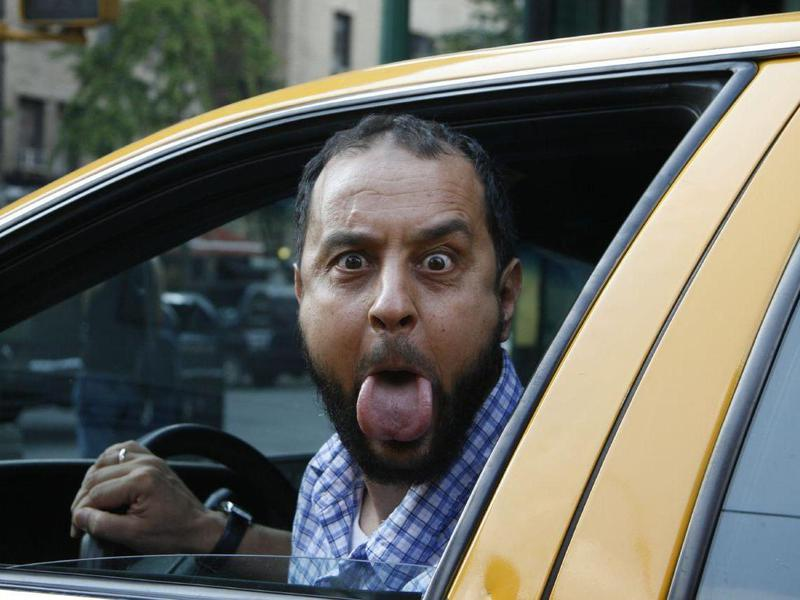person: (69, 110, 537, 593)
